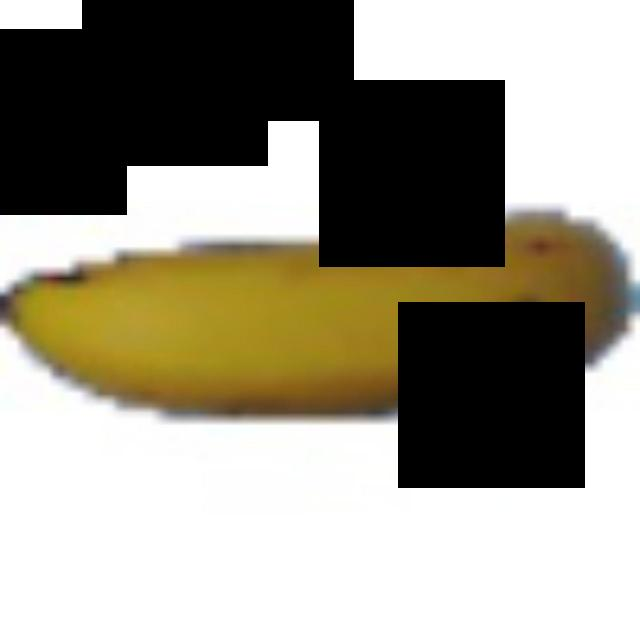banana: (0, 199, 634, 461)
